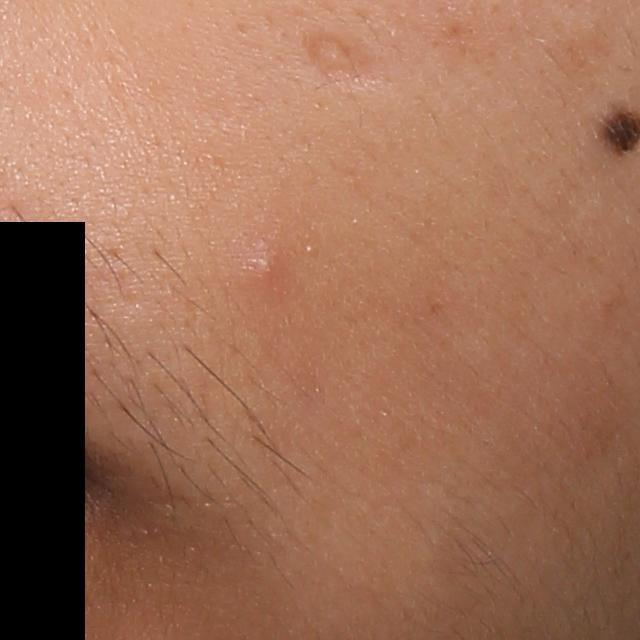atrophic_scar: (299, 26, 395, 97)
papule: (226, 226, 296, 313)
